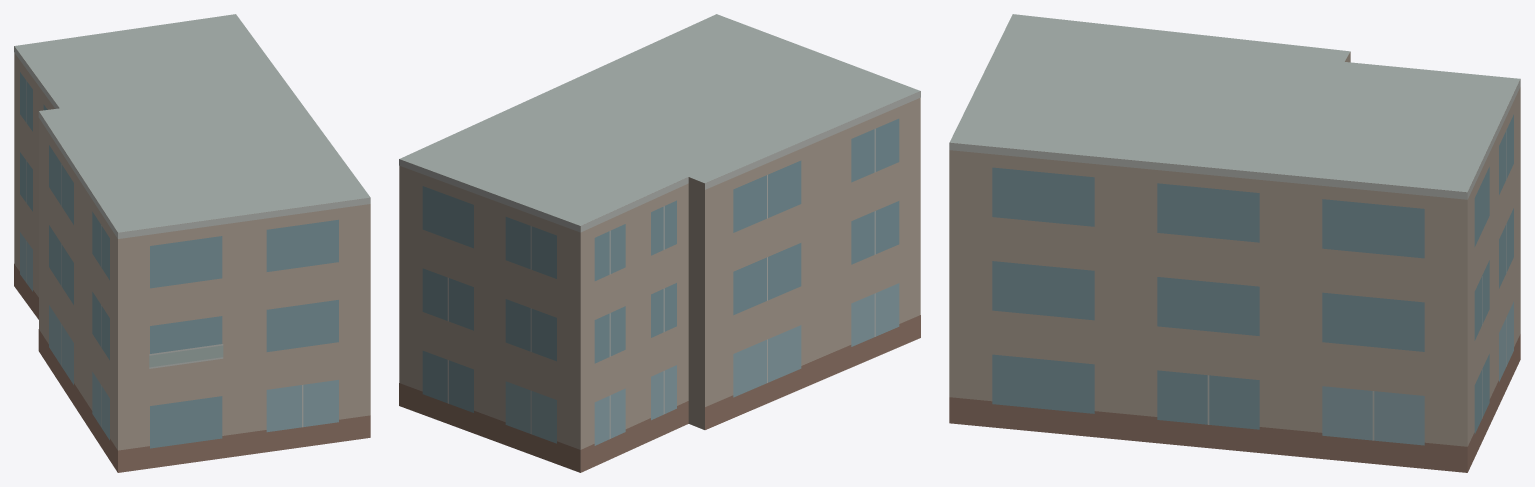
The model's file is survey-upis-33016686.glb.
The picture shows the model from 3 angles, left to right: view 1: azimuth 30°, elevation 25°; view 2: azimuth 150°, elevation 25°; view 3: azimuth 270°, elevation 25°; orthographic projection. The views are drawn at different scales.
Parts seen in each view (by area): view 1: survey-upis-33016686.tmp; view 2: survey-upis-33016686.tmp; view 3: survey-upis-33016686.tmp.
Part boxes in pixels (x1,y1,x2,y2): survey-upis-33016686.tmp: (14,14,370,472); survey-upis-33016686.tmp: (399,14,920,472); survey-upis-33016686.tmp: (949,14,1520,472).
Bounding box in the file's own units: 12.48 × 9.15 × 16.89.
